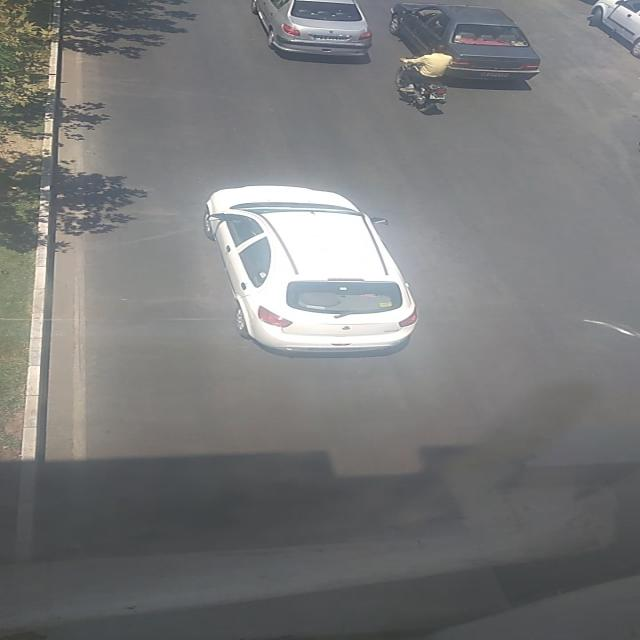car: (202, 183, 420, 357), (391, 3, 542, 78), (249, 1, 373, 61), (588, 0, 640, 60)
motor: (395, 44, 453, 110)
